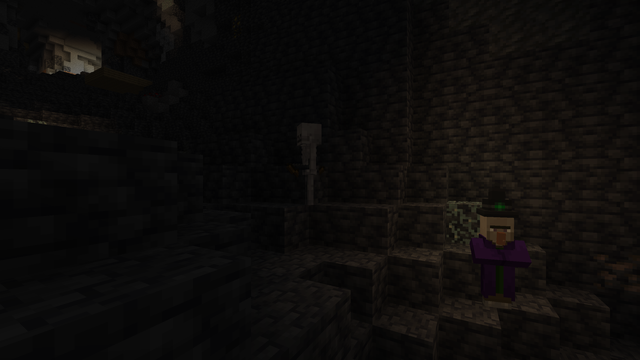sorcieres: (478, 209, 515, 314)
squelettes: (292, 122, 324, 205)
